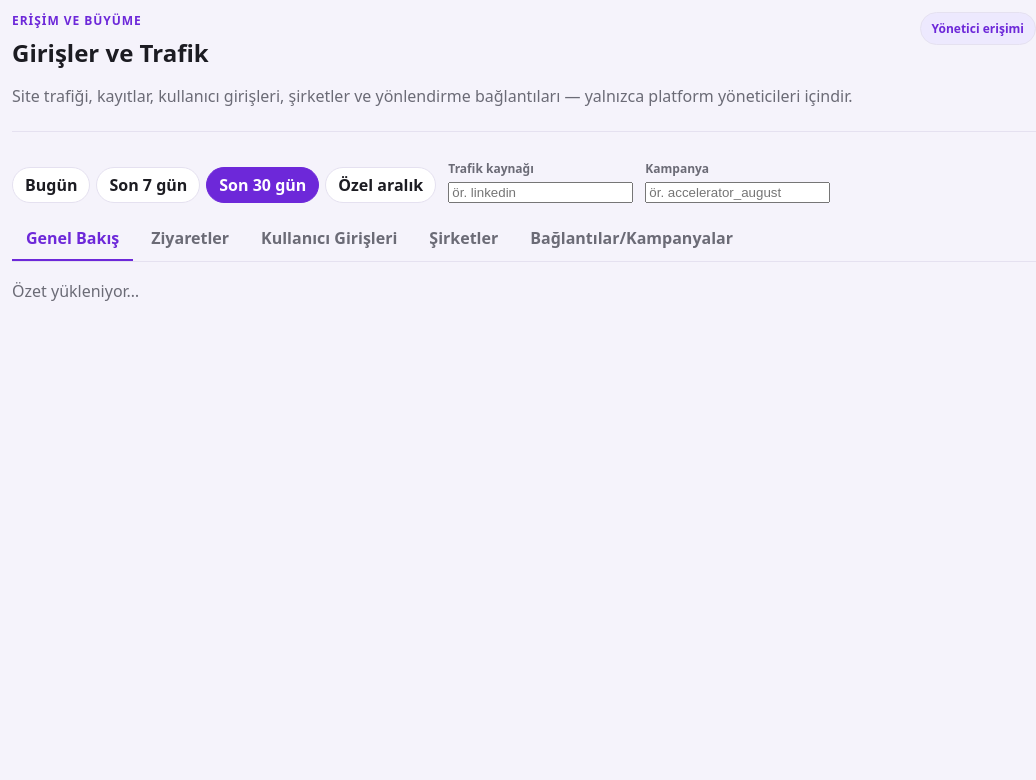
AdminTraffic › sekme değiştirince kullanıcı tablosunu yükler
The image size is (1036, 780).
What coordinates should you click on to do the following:
click the tab "Kullanıcı Girişleri"
I would click on:
 (329, 239)
Its box is [247,217,411,261].
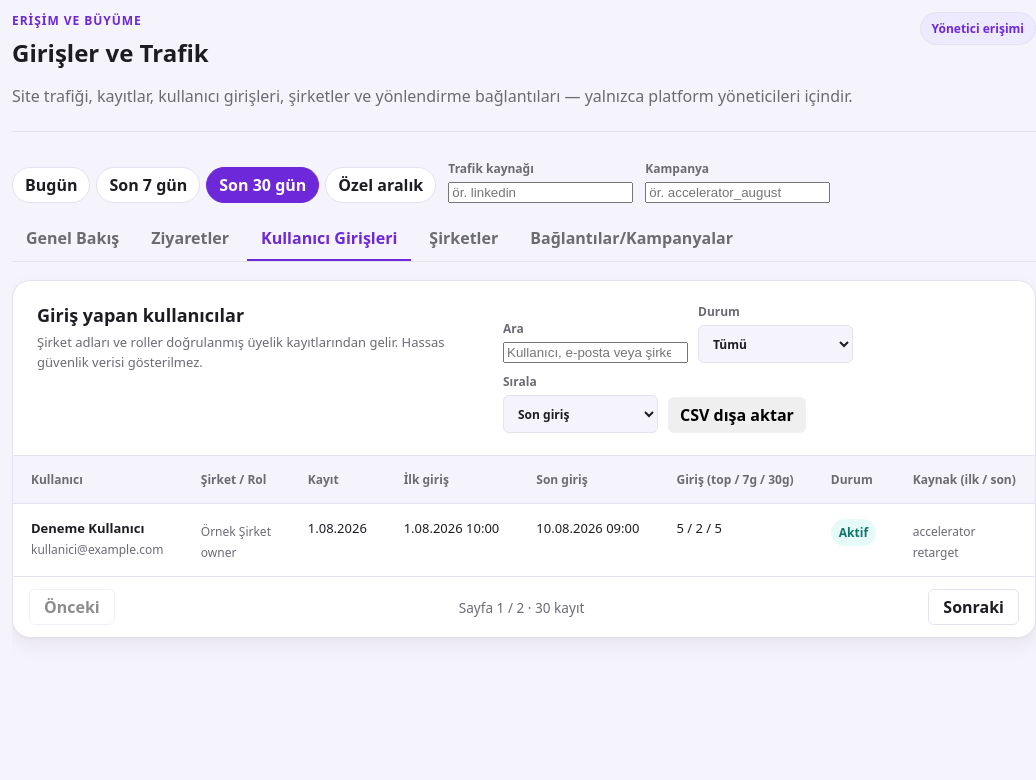
Check: the text "Deneme Kullanıcı" is shown, box [31,519,144,537]
Check: the text "kullanici@example.com" is shown, box [31,541,165,558]
Check: the text "Örnek Şirket" is shown, box [201,523,272,540]
